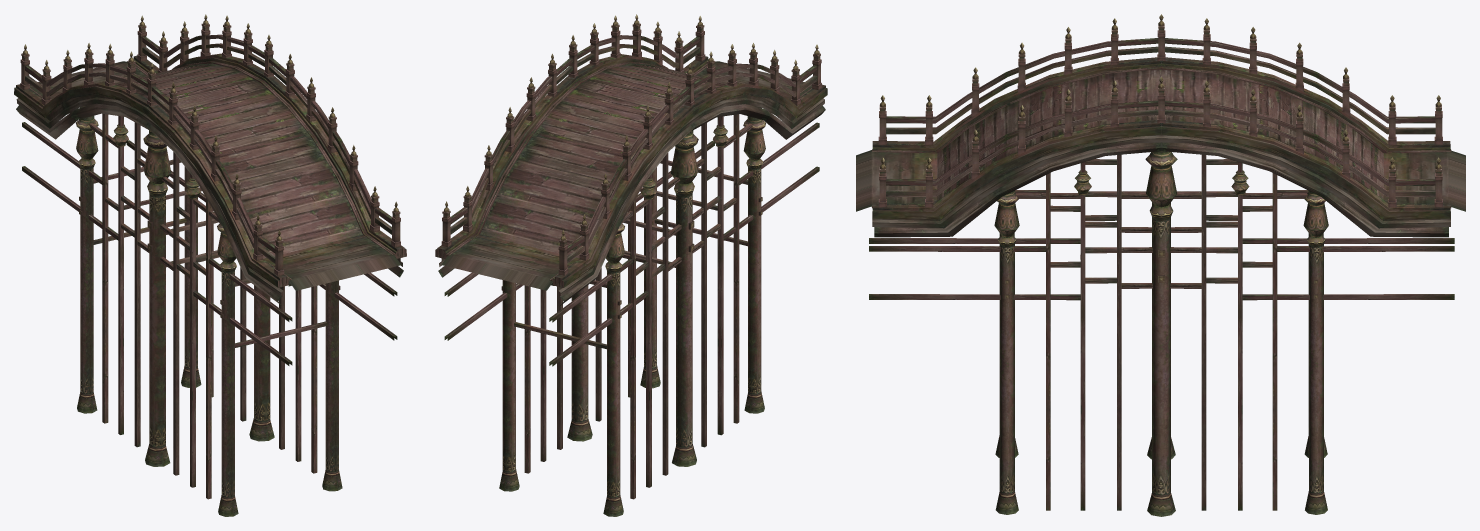
Rendered from JiaYeSi_MuQiao_1.FBX.
The picture shows the model from 3 angles, left to right: view 1: azimuth 30°, elevation 25°; view 2: azimuth 150°, elevation 25°; view 3: azimuth 270°, elevation 25°; orthographic projection. The views are drawn at different scales.
Visible parts, largest first — view 1: JiaYeSi_MuQiao_1, JiaYeSi_MuQiao_1_Xzm; view 2: JiaYeSi_MuQiao_1, JiaYeSi_MuQiao_1_Xzm; view 3: JiaYeSi_MuQiao_1, JiaYeSi_MuQiao_1_Xzm.
Boxes of the visible parts, bbox=[...] form: JiaYeSi_MuQiao_1: bbox=[14, 14, 406, 516]; JiaYeSi_MuQiao_1_Xzm: bbox=[30, 61, 400, 290]; JiaYeSi_MuQiao_1: bbox=[435, 14, 827, 516]; JiaYeSi_MuQiao_1_Xzm: bbox=[441, 61, 811, 290]; JiaYeSi_MuQiao_1: bbox=[869, 14, 1454, 516]; JiaYeSi_MuQiao_1_Xzm: bbox=[856, 69, 1465, 211].
Bounding box in the file's own units: 724 × 2125 × 2680.
